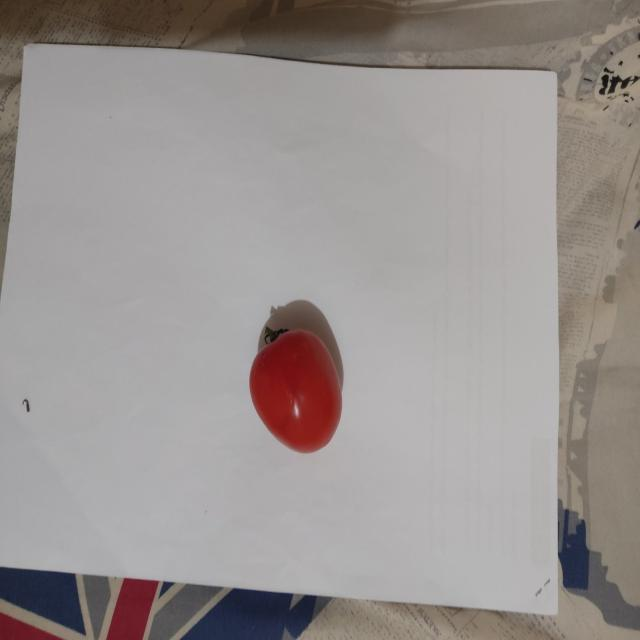kirmizi: (226, 306, 404, 464)
